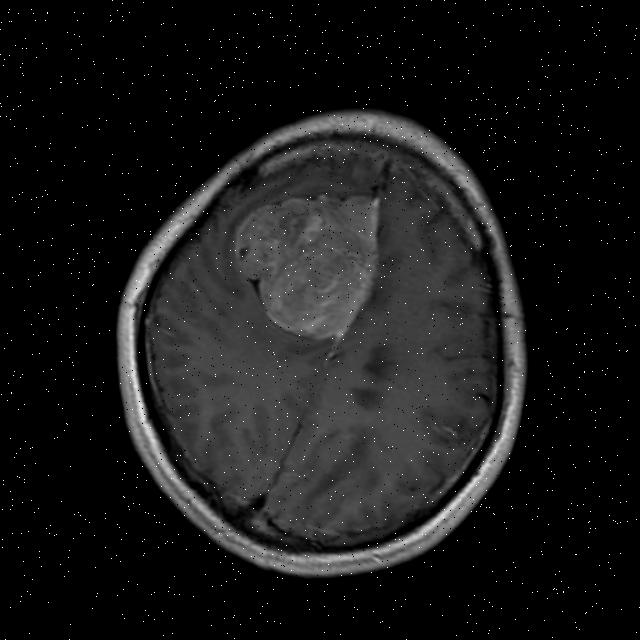Meningioma: (209, 162, 400, 355)
